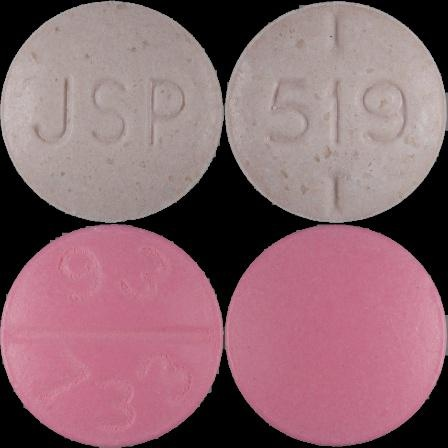10544-262: (0, 0, 224, 224)
